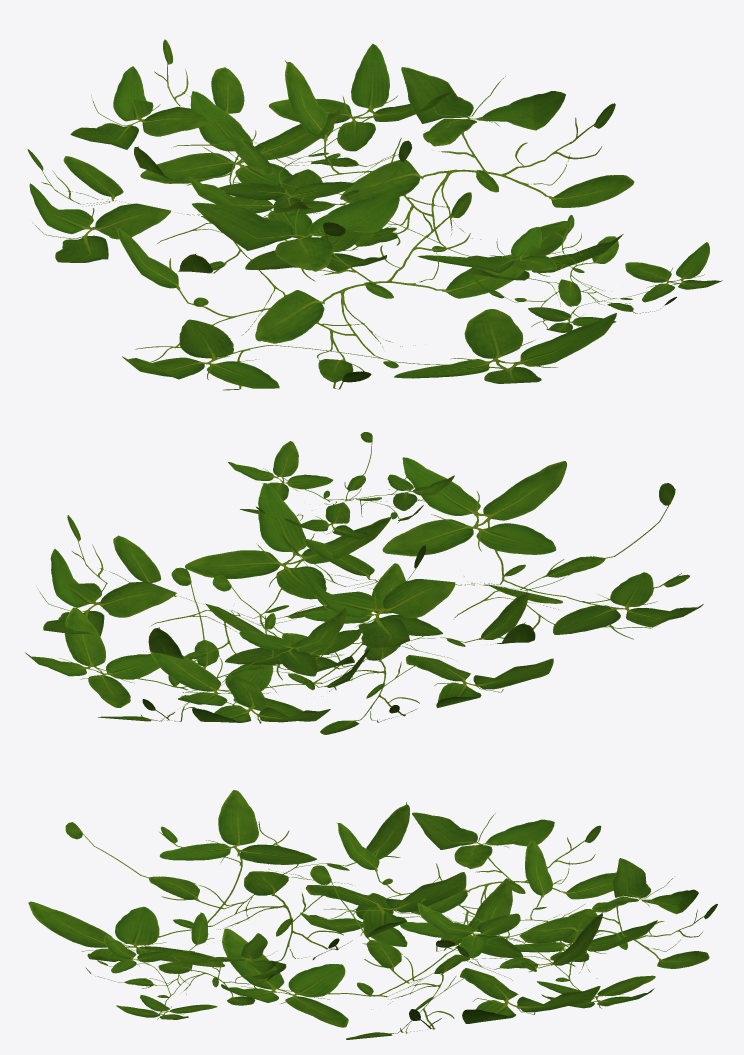
The model's file is leafplant5_lod0.fbx.
3 renders of one model, top to bottom at view 1: azimuth 30°, elevation 25°; view 2: azimuth 150°, elevation 25°; view 3: azimuth 270°, elevation 25°, orthographic. The views are drawn at different scales.
Parts seen in each view (by area): view 1: Mesh Object; view 2: Mesh Object; view 3: Mesh Object.
Part boxes in pixels (x1,y1,x2,y2): Mesh Object: (27, 39, 722, 390); Mesh Object: (25, 432, 703, 734); Mesh Object: (28, 790, 717, 1039).
Bounding box in the file's own units: 1.74 × 0.2972 × 2.04.
